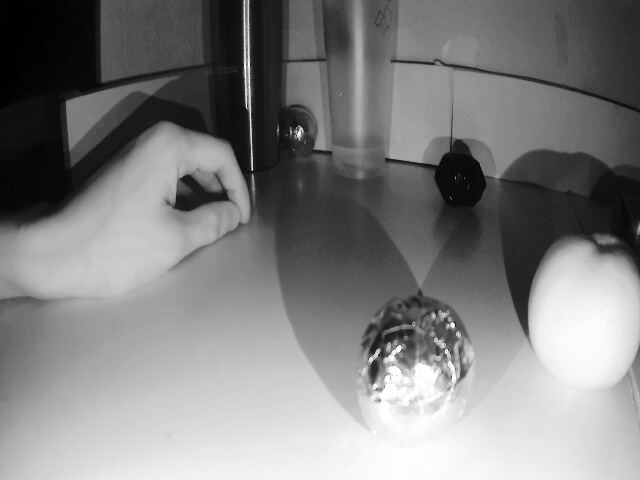black: (361, 301, 467, 428), (270, 105, 318, 157)
silver: (430, 152, 484, 211)
